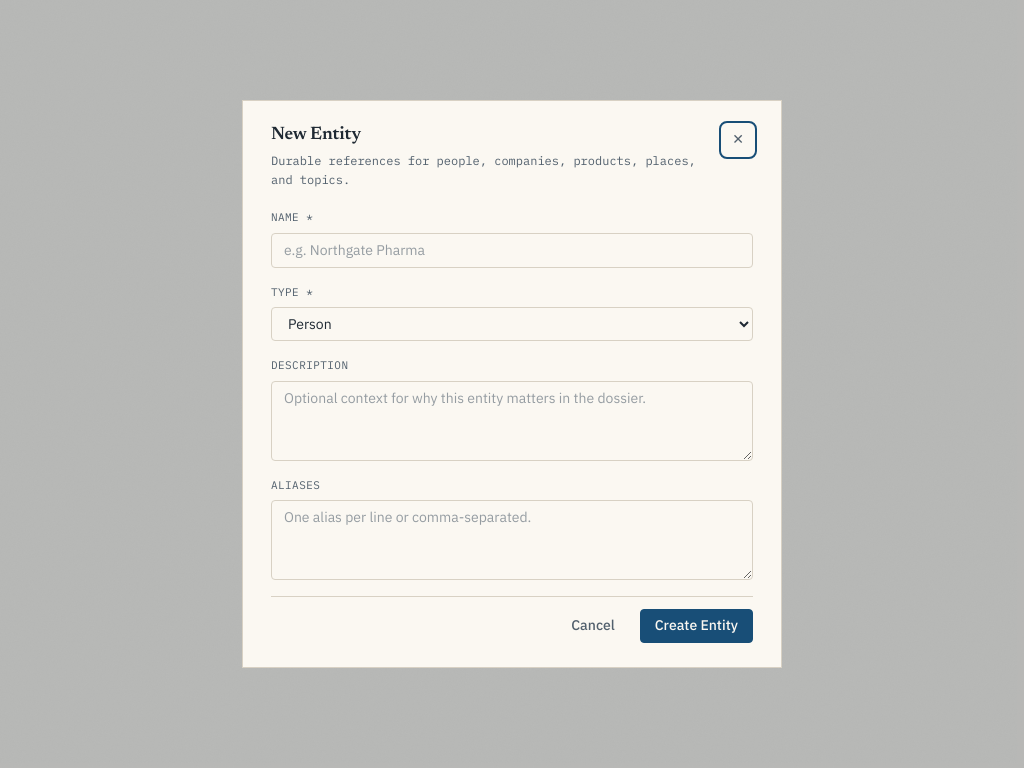
it: EntityEditorModal › shows action errors without closing the modal
In the field labelled "Name *": (512, 250) [271, 233, 753, 268], type "Northgate"
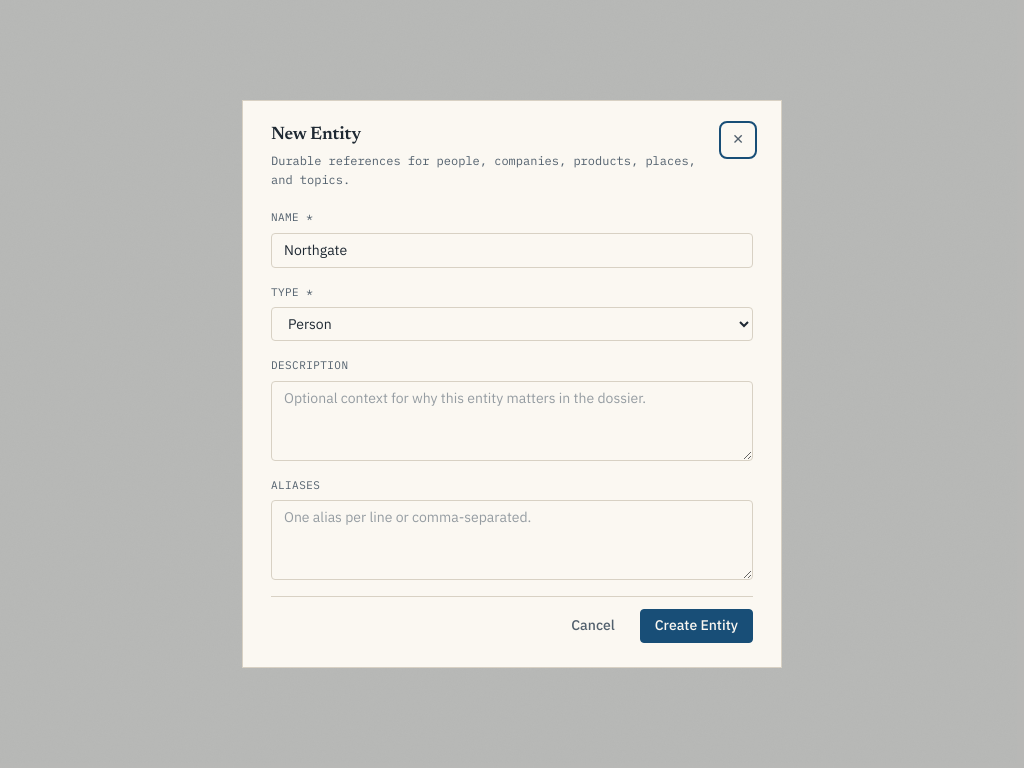
Submit the form named "Create Entity", box [243, 101, 781, 667]
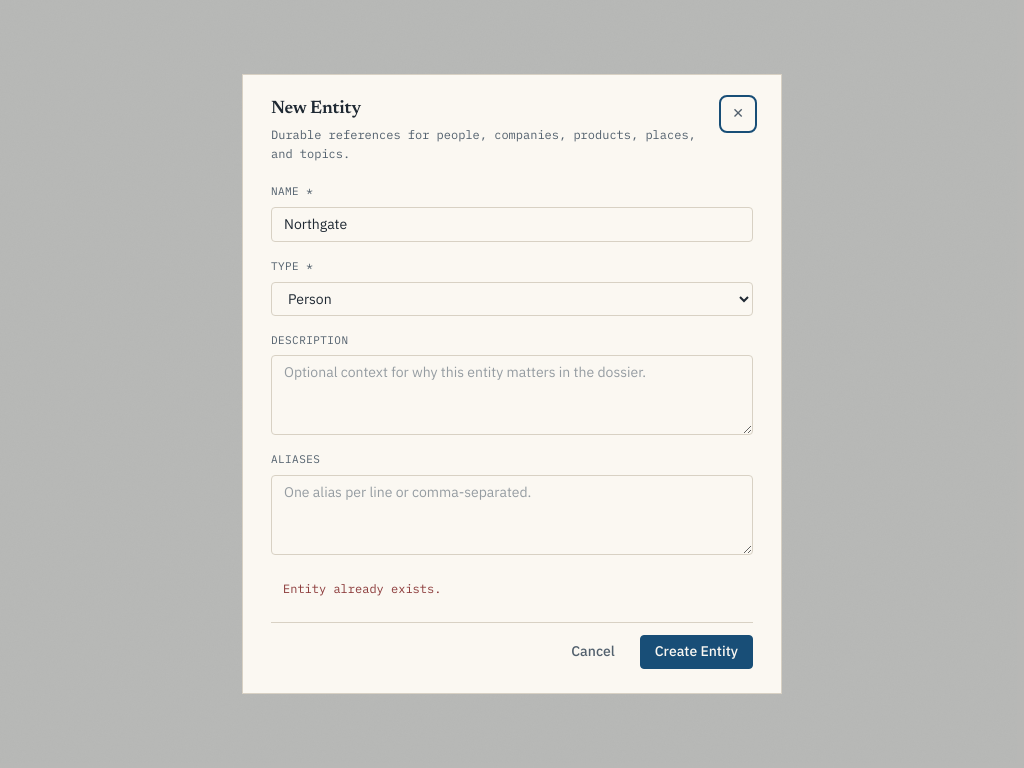
Check: the text "Entity already exists." is shown, box [283, 581, 441, 596]
